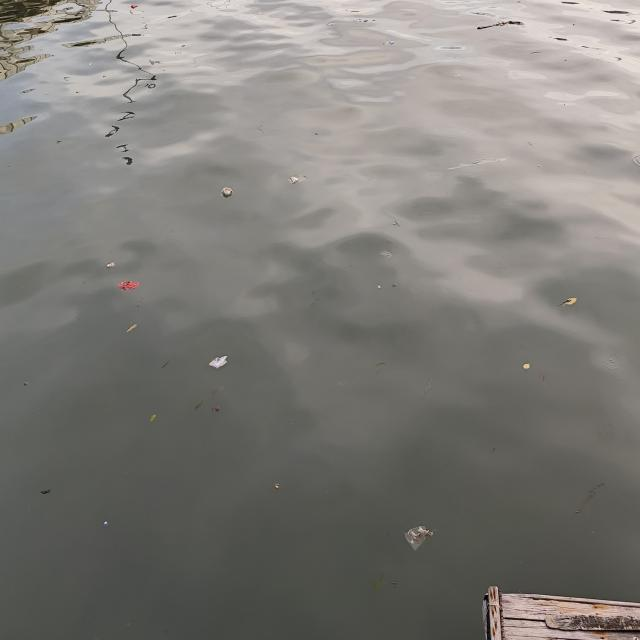Kantong Plastik: (403, 524, 433, 555), (118, 278, 144, 294), (210, 353, 231, 372)
